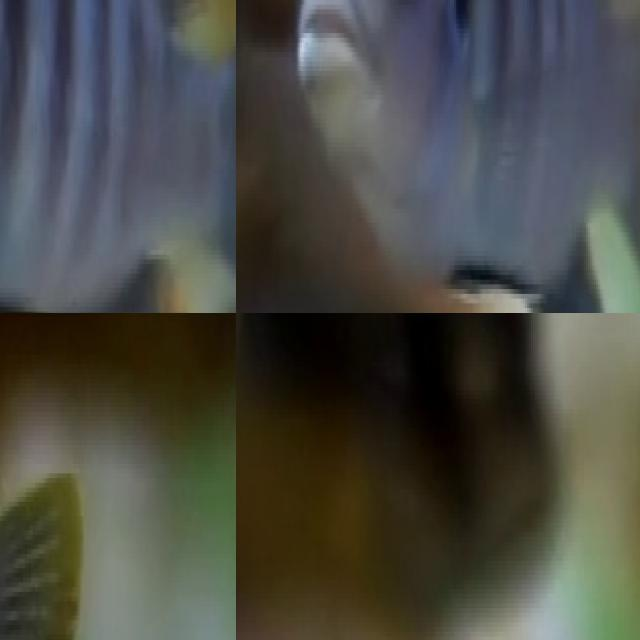fish: (236, 313, 559, 636), (0, 0, 236, 313)
